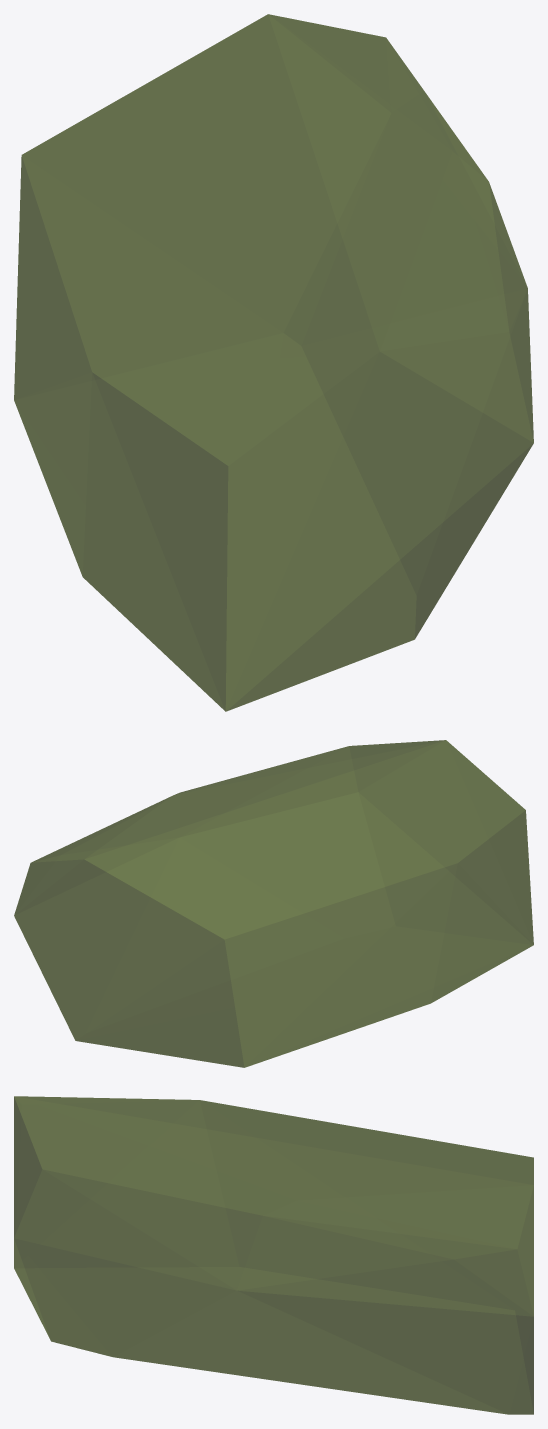
3 renders of one model, top to bottom at view 1: azimuth 30°, elevation 25°; view 2: azimuth 150°, elevation 25°; view 3: azimuth 270°, elevation 25°, orthographic. The views are drawn at different scales.
Visible parts, largest first — view 1: Shape_IndexedFaceSet.020_Shape_IndexedFaceSet.10845; view 2: Shape_IndexedFaceSet.020_Shape_IndexedFaceSet.10845; view 3: Shape_IndexedFaceSet.020_Shape_IndexedFaceSet.10845.
Part boxes in pixels (left/top/right/bottom): Shape_IndexedFaceSet.020_Shape_IndexedFaceSet.10845: left=14, top=14, right=533, bottom=711; Shape_IndexedFaceSet.020_Shape_IndexedFaceSet.10845: left=14, top=740, right=533, bottom=1067; Shape_IndexedFaceSet.020_Shape_IndexedFaceSet.10845: left=14, top=1096, right=533, bottom=1414.
Bounding box in the file's own units: 0.3328 × 0.1902 × 0.3993.
